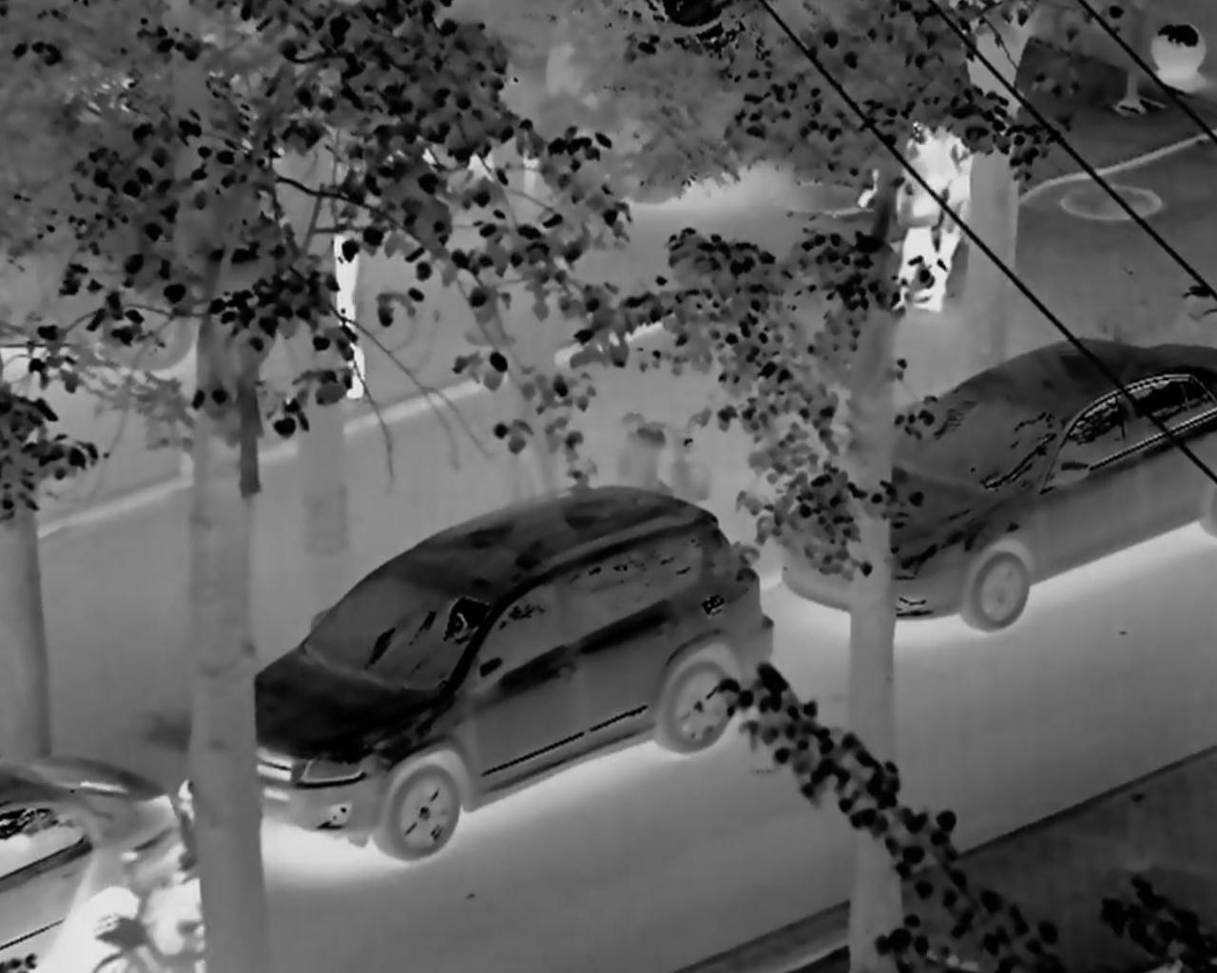person: (859, 84, 958, 311), (929, 107, 998, 307)
